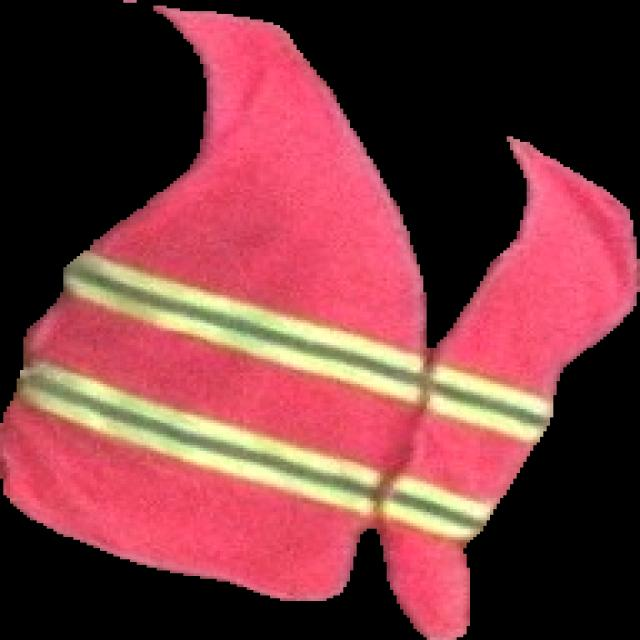Colete: (0, 6, 639, 639)
